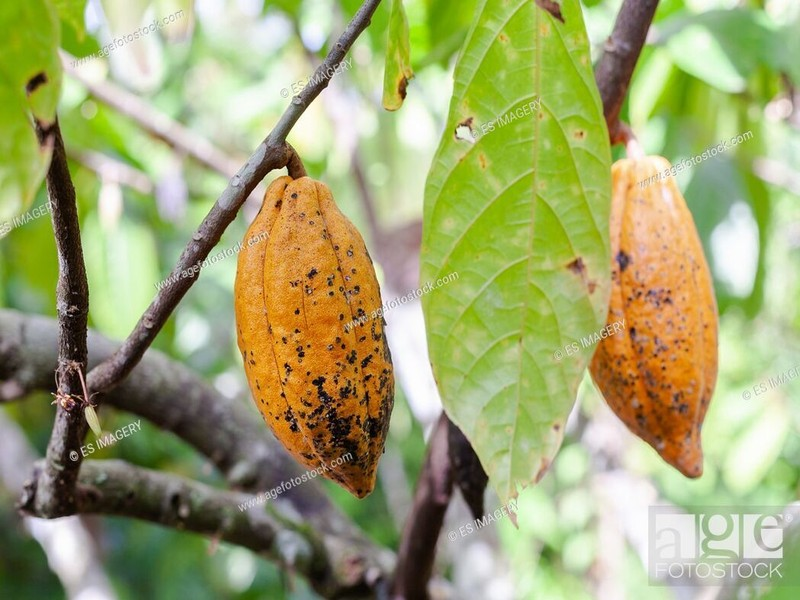Cacaopod: (234, 177, 409, 497)
